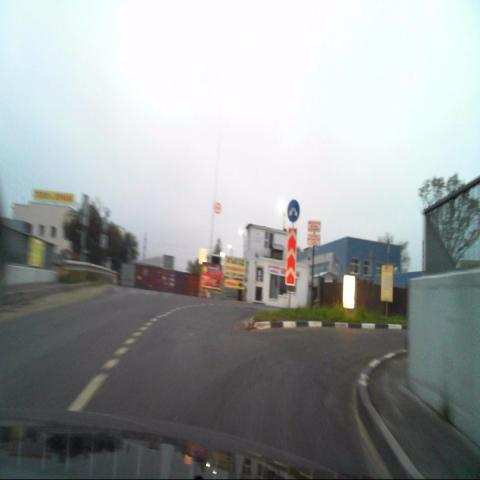4_2_3: (287, 199, 300, 223)
